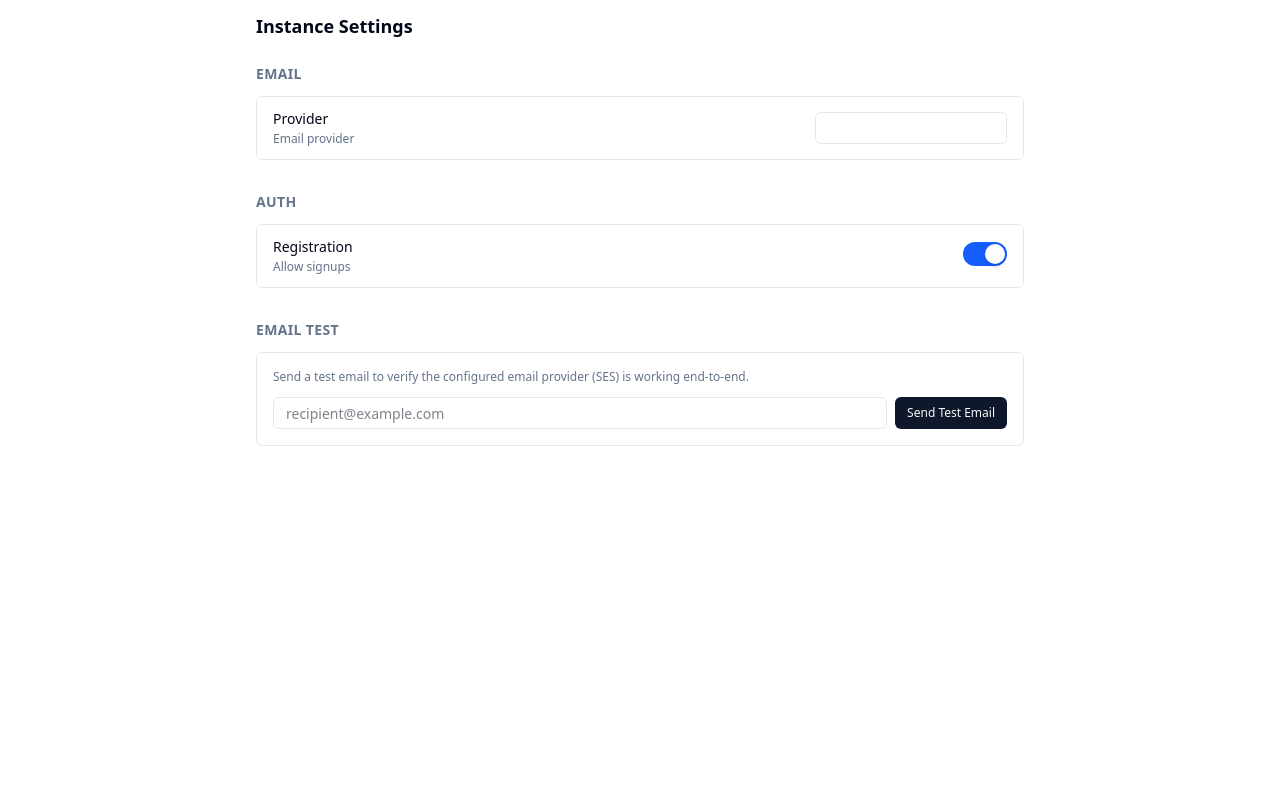
Scenario: AdminSettingsPage › shows error toast from ApiClientError when testEmailSend fails
Expected: the button "Send Test Email" is shown, [895,397,1007,429]
Type "ops@test.com" into the field with placeholder "recipient@example.com" at (580, 413), box [273,397,887,429]
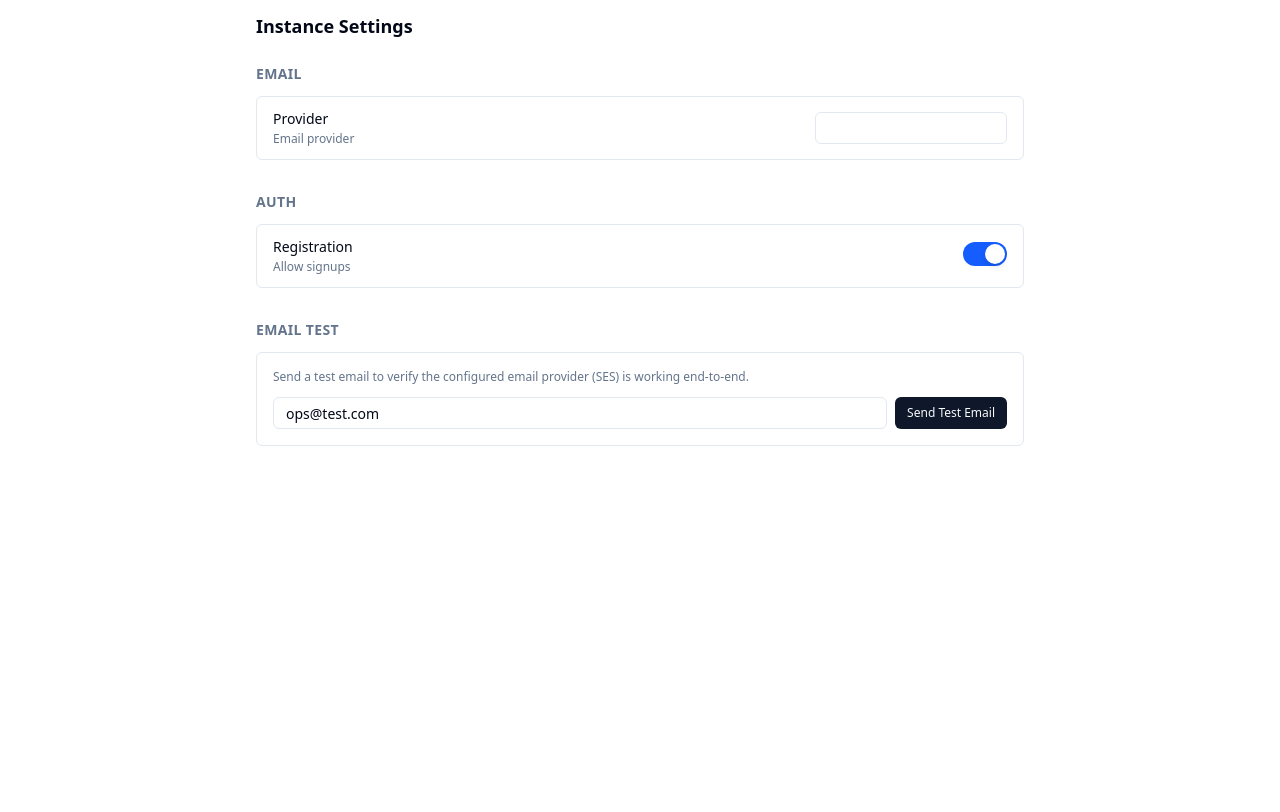
Click the button "Send Test Email" at (951, 413), box [895,397,1007,429]
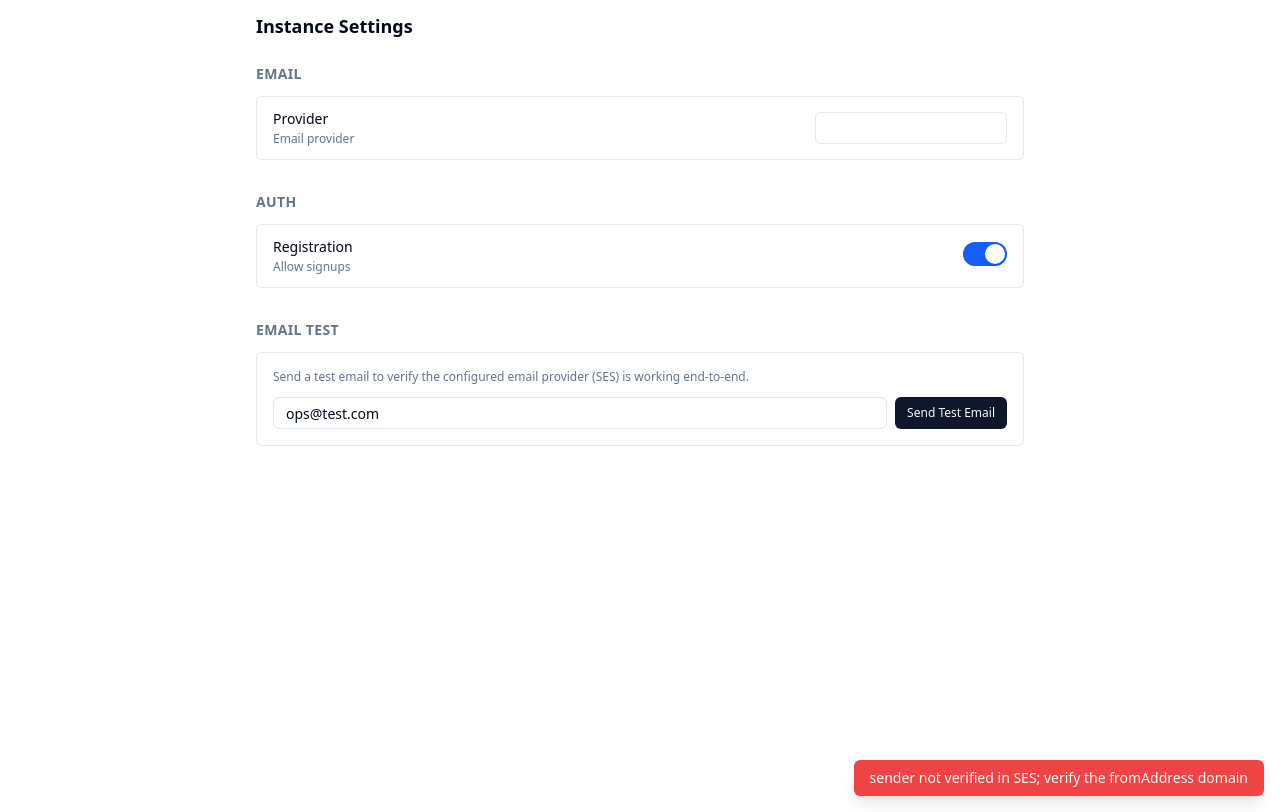
Expected: the text "sender not verified in SES; verify the fromAddress domain" is shown, [854,760,1264,796]
